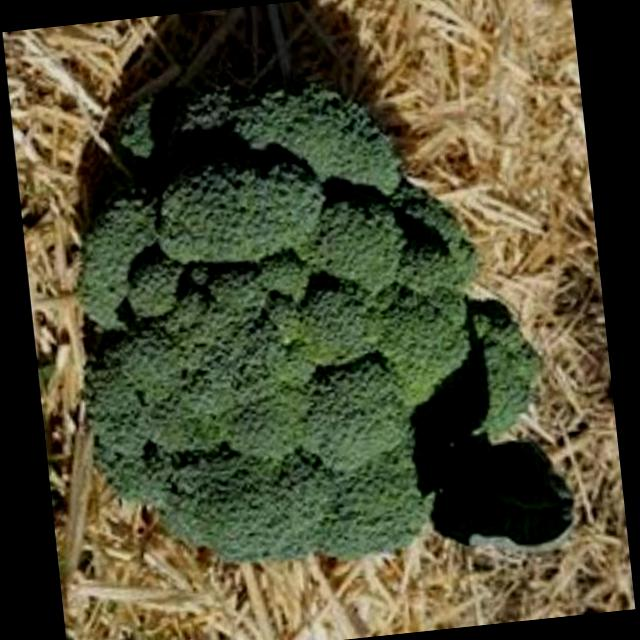Broccoli: (49, 39, 574, 596)
